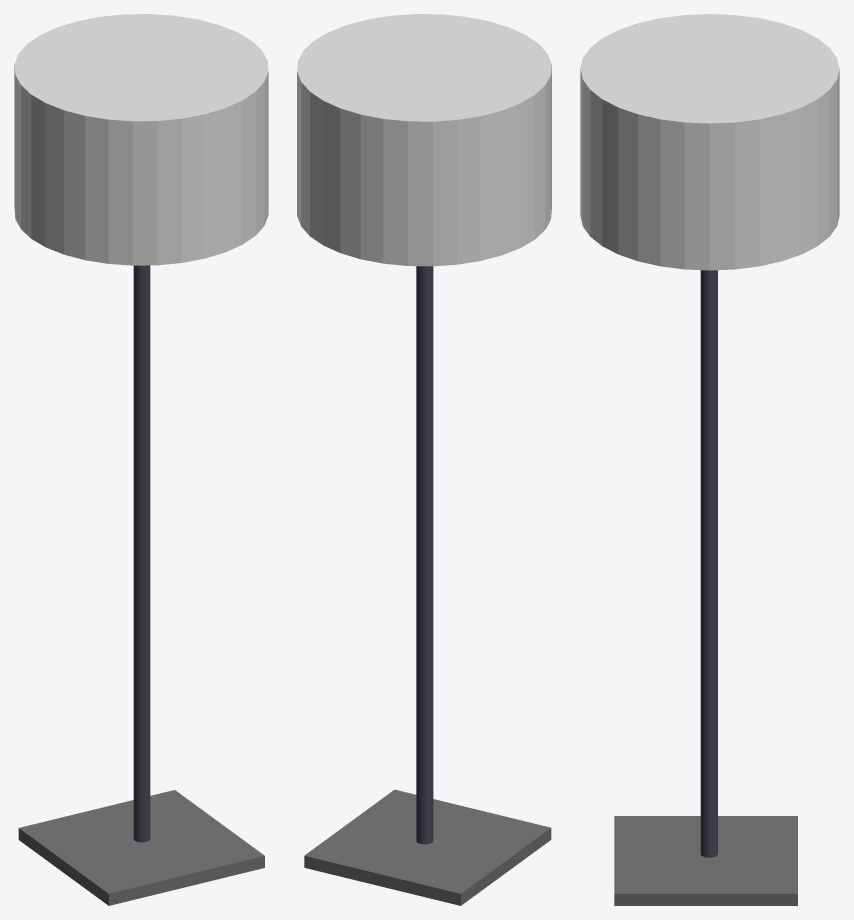
Rendered from Floor_Lamp.fbx.
3 views of the same model, side by side, from view 1: azimuth 30°, elevation 25°; view 2: azimuth 150°, elevation 25°; view 3: azimuth 270°, elevation 25° (orthographic).
Parts seen in each view (by area): view 1: Cylinder.002, Cube.018, Cylinder.001; view 2: Cylinder.002, Cube.018, Cylinder.001; view 3: Cylinder.002, Cube.018, Cylinder.001.
Boxes of the visible parts, <box> form: Cylinder.002: <box>14,14,268,265</box>; Cube.018: <box>18,790,264,905</box>; Cylinder.001: <box>133,265,150,842</box>; Cylinder.002: <box>297,14,551,266</box>; Cube.018: <box>304,789,551,905</box>; Cylinder.001: <box>416,266,433,844</box>; Cylinder.002: <box>580,14,839,270</box>; Cube.018: <box>614,816,797,905</box>; Cylinder.001: <box>700,270,717,857</box>.
Bounding box in the file's own units: 59.65 × 203 × 59.65.
3 materials, 3 textured.
